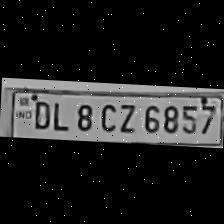5: (178, 100, 198, 134)
6: (138, 99, 162, 133)
7: (196, 100, 218, 134)
8: (70, 99, 96, 132), (158, 100, 180, 132)
C: (94, 99, 118, 132)
D: (28, 96, 52, 130)
L: (48, 96, 70, 130)
Z: (114, 98, 138, 132)
